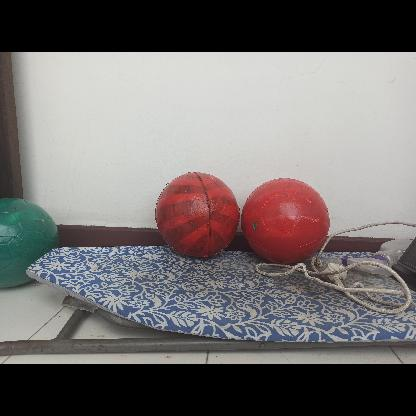red_ball: (242, 175, 328, 261), (154, 172, 238, 256)
